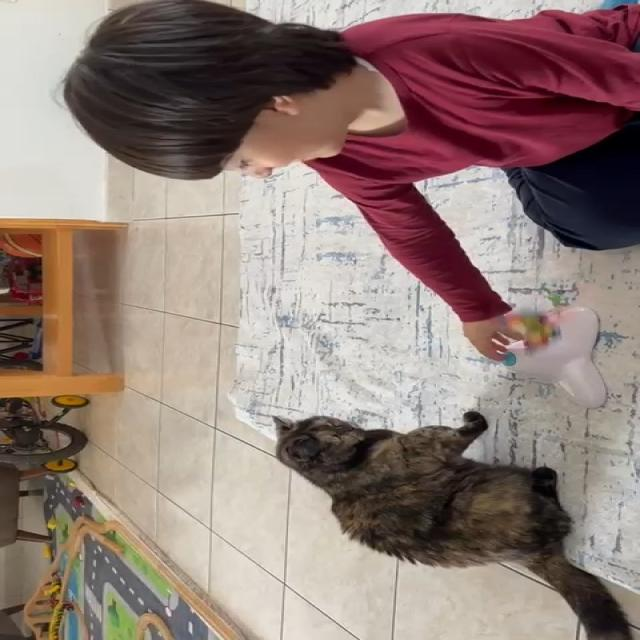authorized: (271, 410, 633, 639)
